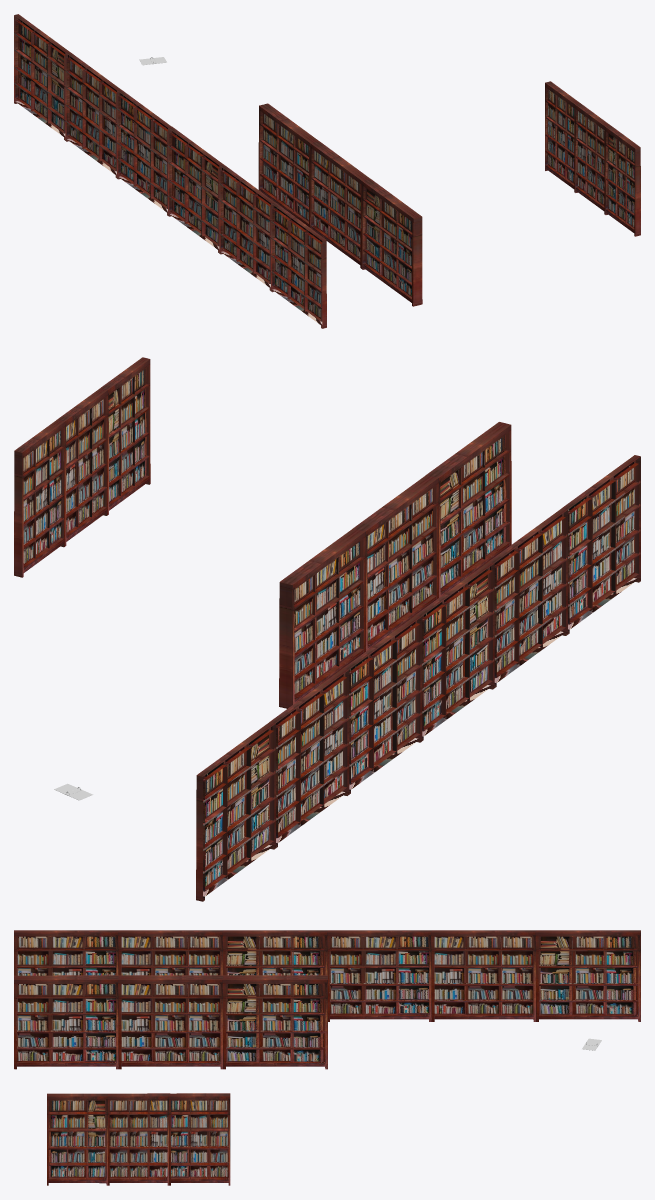
The model's file is BookshelffNotesBetter.fbx.
The picture shows the model from 3 angles, top to bottom: view 1: azimuth 30°, elevation 25°; view 2: azimuth 150°, elevation 25°; view 3: azimuth 270°, elevation 25°; orthographic projection. The views are drawn at different scales.
Parts seen in each view (by area): view 1: Plane.003, Cube.034, Cube.045, Plane.002, Plane.008, Cube.059, Plane.006, Cube.013; view 2: Plane.003, Cube.034, Cube.059, Plane.002, Plane.008, Cube.045, Plane.006, Cube.013; view 3: Plane.005, Plane.008, Plane.006, Plane.002, Cube.034, Cube.059, Cube.013, Cube.045.
Boxes of the visible parts, box(x1,y1,x2,y2) form: Plane.003: box(262, 113, 412, 296); Cube.034: box(258, 103, 422, 306); Cube.045: box(168, 126, 326, 328); Plane.002: box(172, 131, 322, 318); Plane.008: box(18, 18, 167, 205); Cube.059: box(14, 14, 172, 215); Plane.006: box(547, 89, 634, 227); Cube.013: box(545, 81, 640, 236); Plane.003: box(294, 435, 506, 695); Cube.034: box(279, 422, 511, 708); Cube.059: box(196, 615, 422, 901); Plane.002: box(422, 460, 635, 727); Plane.008: box(203, 620, 416, 887); Cube.045: box(415, 455, 640, 741); Plane.006: box(23, 368, 146, 564); Cube.013: box(14, 357, 150, 577); Plane.005: box(17, 984, 324, 1062); Plane.008: box(330, 936, 637, 1014); Plane.006: box(48, 1100, 228, 1177); Plane.002: box(17, 936, 324, 975); Cube.034: box(14, 975, 327, 1069); Cube.059: box(328, 930, 640, 1021); Cube.013: box(47, 1093, 230, 1185); Cube.045: box(14, 930, 327, 975).
Bounding box in the file's own units: 2377 × 597 × 3791.
